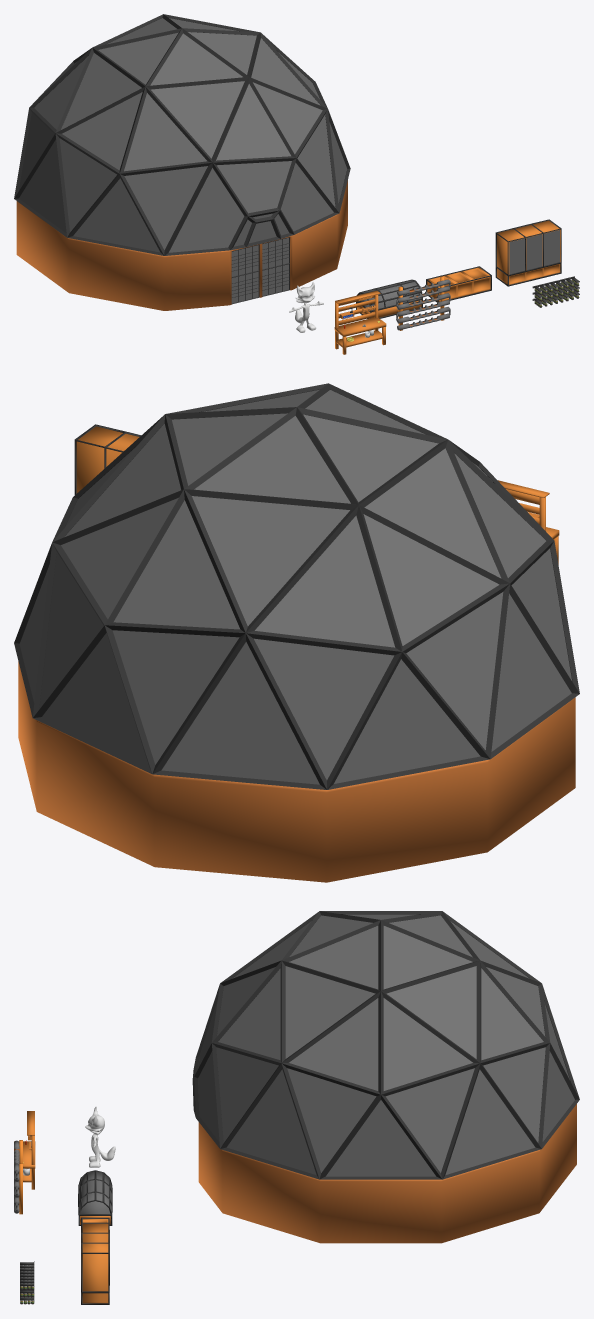
File: AssetGreenhouse.fbx
3 renders of one model, top to bottom at view 1: azimuth 30°, elevation 25°; view 2: azimuth 150°, elevation 25°; view 3: azimuth 270°, elevation 25°, orthographic. The views are drawn at different scales.
Parts seen in each view (by area): view 1: Greenhouse.Roof, Greenhouse, Greenhouse.Details, Workstation, Soild.D.Detail.Left, Door.Left, Door.Right, Soil.A, SoilC.Top, SeedsShelf, SoilC.Detail.001, Body (+8 smaller); view 2: Greenhouse.Roof, Greenhouse, Greenhouse.Details, SoilC.Top, Workstation; view 3: Greenhouse.Roof, Greenhouse, Greenhouse.Details, SoilC.Top, SoilC.Roof, Body, SoilC.Roof.Detail, Workstation, Soild.D.Detail.Left, SoilC.Detail.001, SeedsShelf.
Part boxes in pixels (box(x1,y1,x2,y2)): Greenhouse.Roof: box(18, 18, 347, 252); Greenhouse: box(16, 180, 347, 310); Greenhouse.Details: box(14, 14, 350, 255); Workstation: box(334, 290, 386, 354); Soild.D.Detail.Left: box(396, 276, 450, 330); Door.Left: box(231, 245, 258, 303); Door.Right: box(262, 237, 288, 295); Soil.A: box(427, 267, 490, 301); SoilC.Top: box(497, 220, 560, 274); SeedsShelf: box(532, 276, 579, 307); SoilC.Detail.001: box(495, 219, 561, 286); Body: box(289, 282, 323, 332); Greenhouse.Roof: box(19, 389, 572, 784); Greenhouse: box(18, 661, 575, 882); Greenhouse.Details: box(14, 383, 579, 789); SoilC.Top: box(76, 426, 139, 493); Workstation: box(498, 480, 559, 564); Greenhouse.Roof: box(198, 914, 574, 1176); Greenhouse: box(198, 1104, 576, 1243); Greenhouse.Details: box(192, 911, 579, 1179); SoilC.Top: box(82, 1223, 108, 1291); SoilC.Roof: box(79, 1171, 111, 1214); Body: box(85, 1106, 115, 1167); SoilC.Roof.Detail: box(78, 1170, 112, 1215); Workstation: box(14, 1111, 35, 1189); Soild.D.Detail.Left: box(14, 1140, 22, 1214); SoilC.Detail.001: box(81, 1222, 109, 1304); SeedsShelf: box(20, 1261, 34, 1304).
Size of the model in its own units: 1406 by 738 by 1523.
